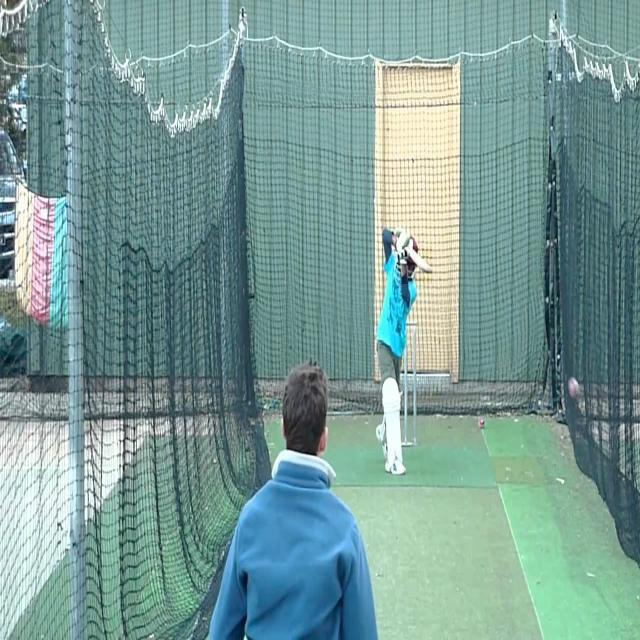bat: (400, 245, 435, 273)
toe: (429, 267, 434, 274)
